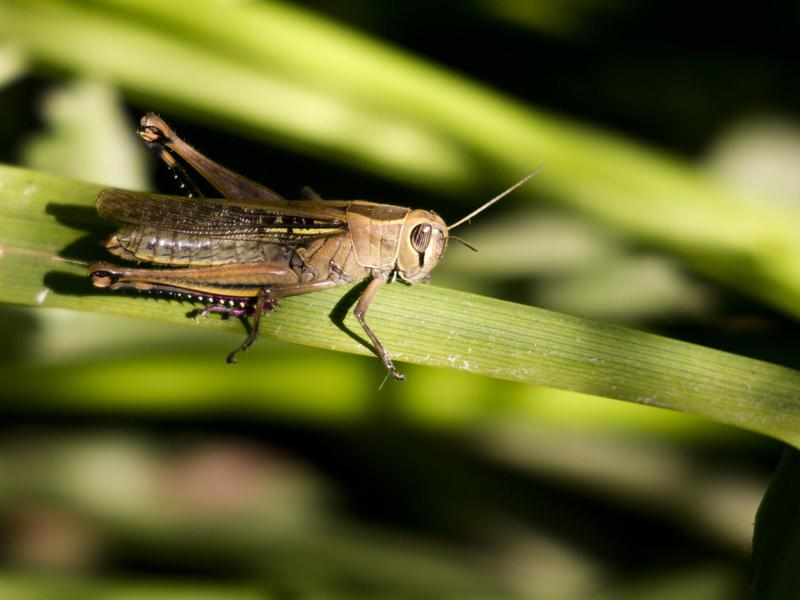Rice_horned_caterpillar: (64, 110, 483, 366)
